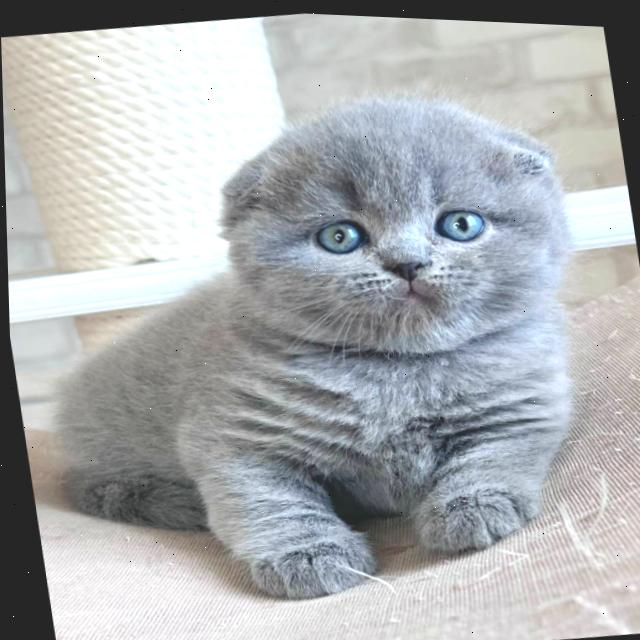Scottish Fold: (1, 50, 629, 640)
